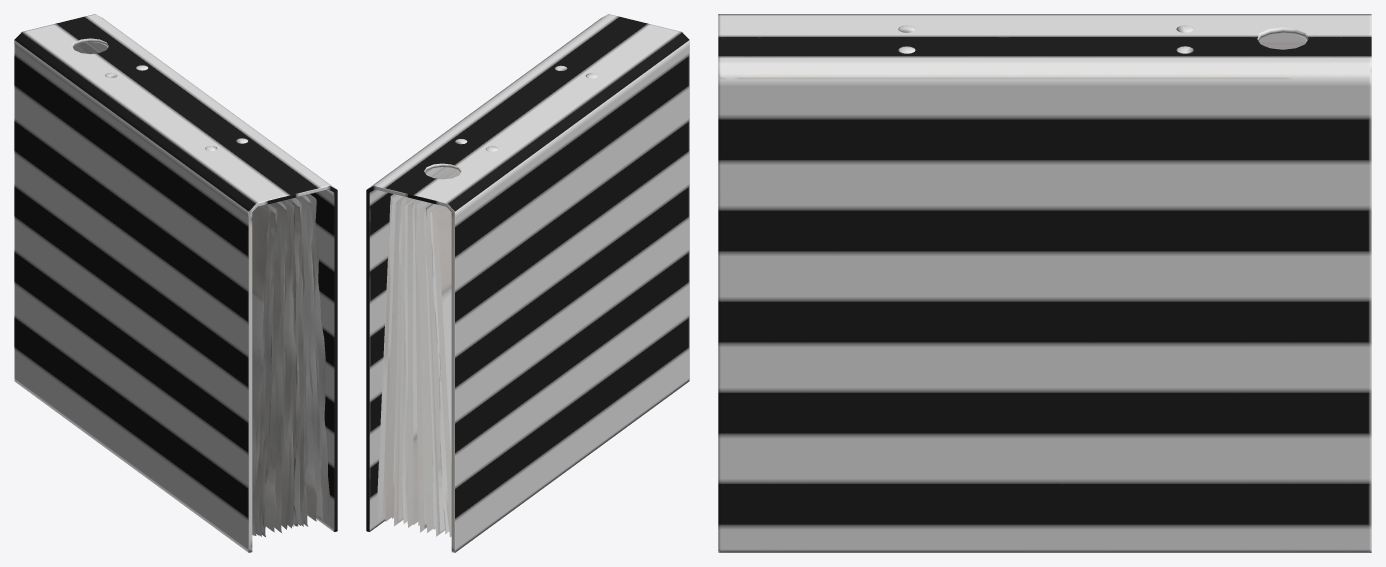
Rendered from striped_book.obj.
3 views of the same model, side by side, from view 1: azimuth 30°, elevation 25°; view 2: azimuth 150°, elevation 25°; view 3: azimuth 270°, elevation 25° (orthographic). The views are drawn at different scales.
Visible parts, largest first — view 1: striped_book_Chocofur_Office_06.000, striped_book_Chocofur_Office_06.002; view 2: striped_book_Chocofur_Office_06.000, striped_book_Chocofur_Office_06.002; view 3: striped_book_Chocofur_Office_06.000.
Boxes of the visible parts, x1=… form: striped_book_Chocofur_Office_06.000: x1=14, y1=14, x2=337, y2=552; striped_book_Chocofur_Office_06.002: x1=73, y1=42, x2=329, y2=536; striped_book_Chocofur_Office_06.000: x1=366, y1=14, x2=689, y2=552; striped_book_Chocofur_Office_06.002: x1=376, y1=167, x2=459, y2=537; striped_book_Chocofur_Office_06.000: x1=718, y1=14, x2=1371, y2=552.
Bounding box in the file's own units: 0.0755 × 0.2833 × 0.3455.
Materials: 3 (3 with a texture image).
